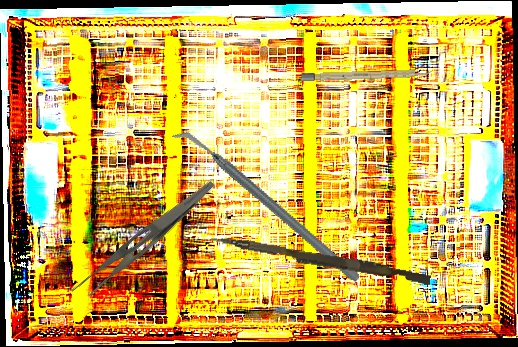Chopper: (170, 85, 361, 326)
Dressing Forceps: (68, 165, 217, 310)
Pusher: (209, 234, 432, 286)
Scalpel Handle: (300, 68, 433, 82)
